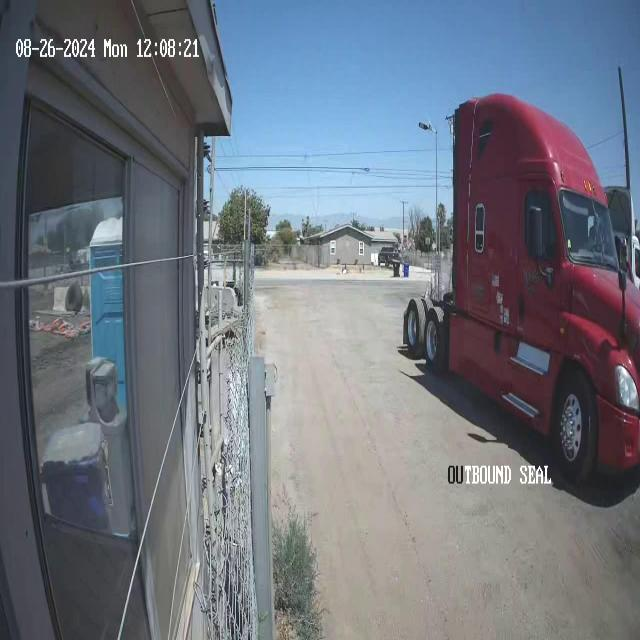BOBTAIL: (402, 90, 640, 487)
